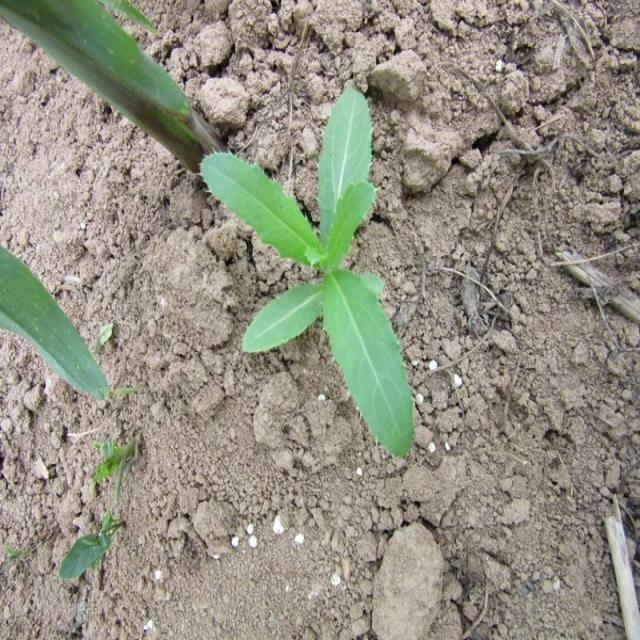cs: (196, 84, 422, 468)
